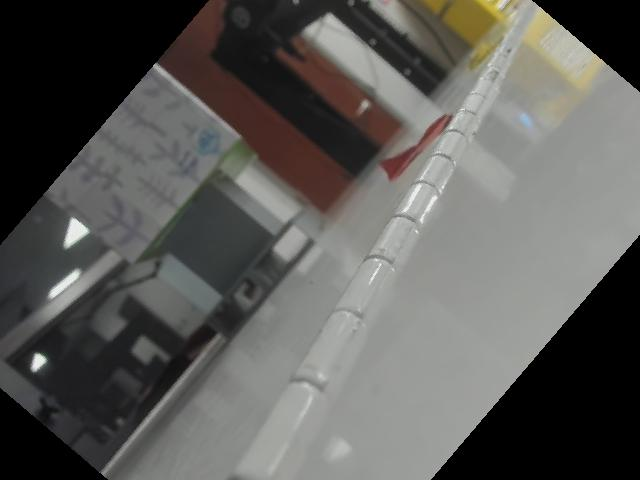grey pallet: (127, 164, 346, 343)
